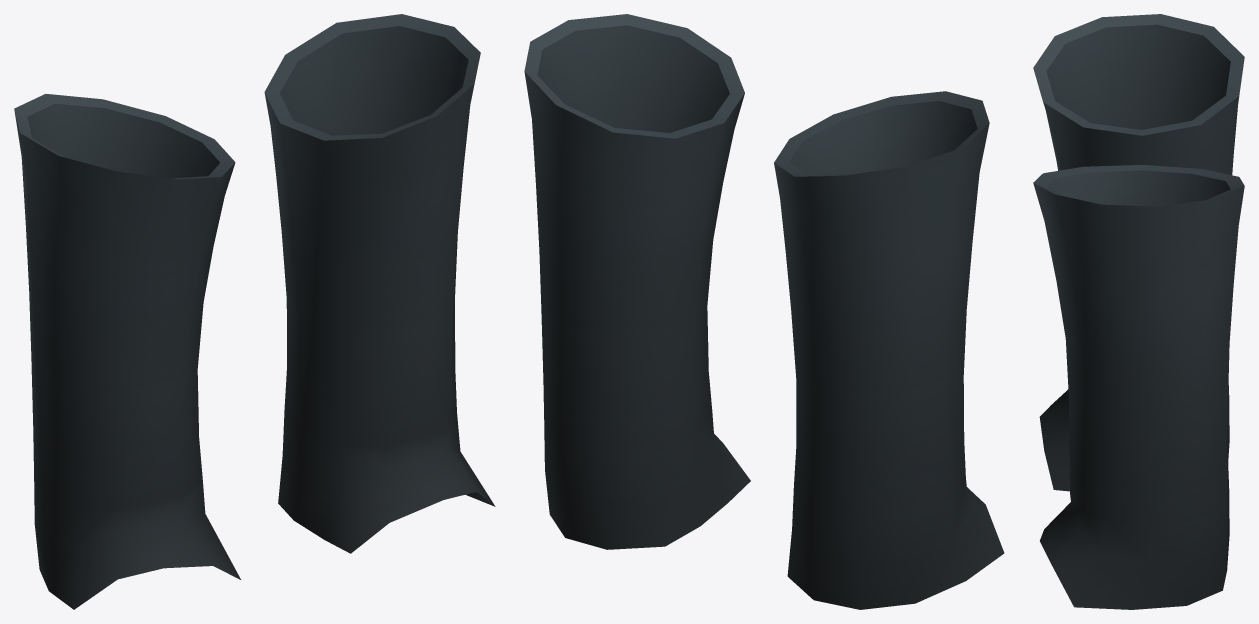
The model's file is Socks_03.glb.
3 views of the same model, side by side, from view 1: azimuth 30°, elevation 25°; view 2: azimuth 150°, elevation 25°; view 3: azimuth 270°, elevation 25° (orthographic). The views are drawn at different scales.
Visible parts, largest first — view 1: Socks_03; view 2: Socks_03; view 3: Socks_03.
Boxes of the visible parts, box(x1,y1,x2,y2) form: Socks_03: box(14, 14, 495, 609); Socks_03: box(524, 14, 1004, 609); Socks_03: box(1033, 14, 1244, 609).
Bounding box in the file's own units: 0.2303 × 0.231 × 0.1069.
Materials: 1 (1 with a texture image).
